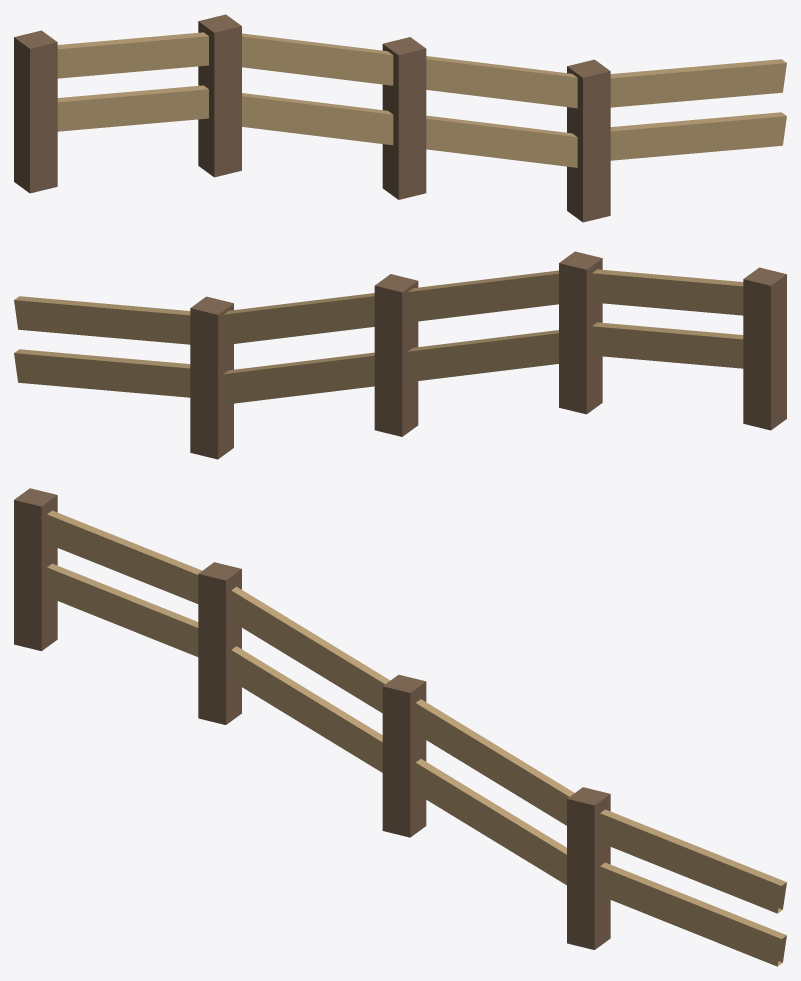
Rendered from Hilly_Prop_Fence_Hill_Gentle.obj.
3 renders of one model, top to bottom at view 1: azimuth 30°, elevation 25°; view 2: azimuth 150°, elevation 25°; view 3: azimuth 330°, elevation 25°, orthographic.
Visible parts, largest first — view 1: object7, object9, object2, object4, object1, object8, object6, object5, object3, object10; view 2: object7, object9, object2, object4, object1, object8, object6, object5, object3, object10; view 3: object9, object7, object6, object5, object4, object8, object1, object2, object3, object10.
Boxes of the visible parts, x1,y1,x2,y2 form: object7: [242, 93, 577, 167]; object9: [242, 33, 577, 108]; object2: [14, 30, 57, 193]; object4: [382, 37, 426, 199]; object1: [567, 59, 610, 222]; object8: [198, 14, 241, 177]; object6: [610, 59, 786, 107]; object5: [610, 112, 786, 160]; object3: [57, 32, 208, 78]; object10: [57, 85, 208, 131]; object7: [223, 330, 558, 404]; object9: [223, 270, 558, 345]; object2: [743, 267, 786, 430]; object4: [374, 274, 418, 436]; object1: [190, 296, 233, 459]; object8: [559, 251, 602, 414]; object6: [14, 296, 190, 344]; object5: [14, 349, 190, 397]; object3: [592, 269, 743, 315]; object10: [592, 322, 743, 368]; object9: [231, 586, 574, 825]; object7: [231, 646, 566, 885]; object6: [600, 809, 786, 913]; object5: [600, 862, 786, 966]; object4: [382, 674, 426, 837]; object8: [198, 562, 241, 724]; object1: [567, 787, 610, 949]; object2: [14, 488, 57, 650]; object3: [47, 510, 201, 603]; object10: [47, 563, 198, 656].
Bounding box in the file's own units: 4.14 × 1.6 × 0.15.
